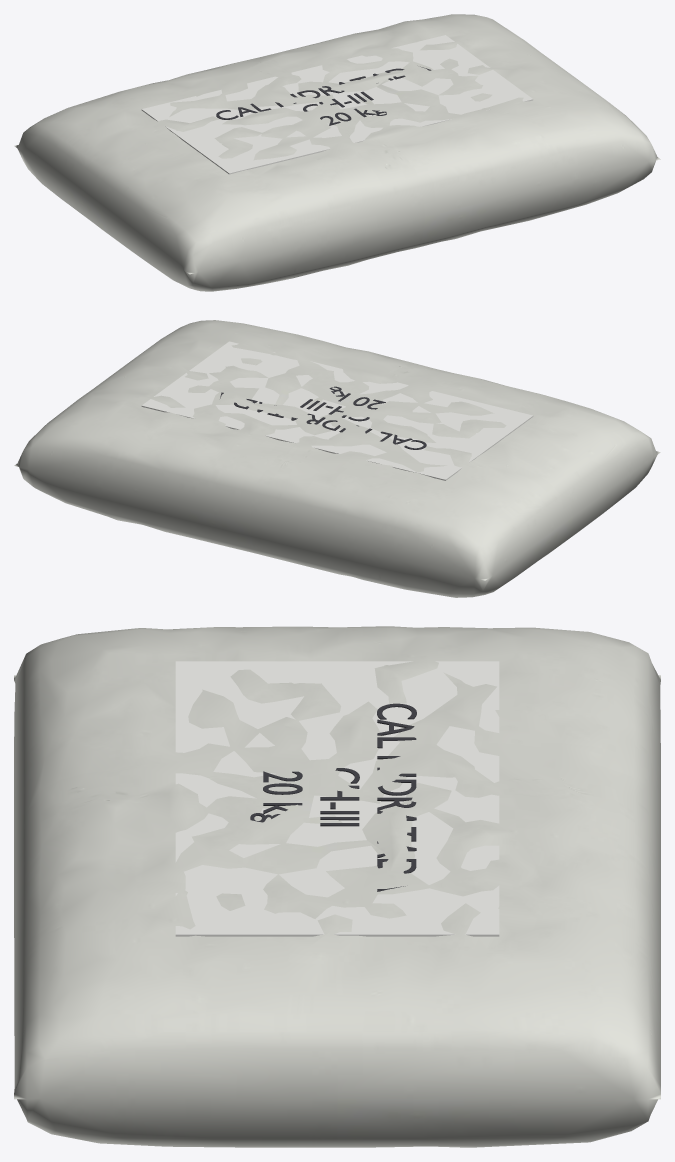
The model's file is ALV-ARG-002.glb.
The picture shows the model from 3 angles, top to bottom: view 1: azimuth 30°, elevation 25°; view 2: azimuth 150°, elevation 25°; view 3: azimuth 270°, elevation 25°; orthographic projection. The views are drawn at different scales.
Visible parts, largest first — view 1: ALV-ARG-002_saco, ALV-ARG-002_faixa, ALV-ARG-002_texto; view 2: ALV-ARG-002_saco, ALV-ARG-002_faixa, ALV-ARG-002_texto; view 3: ALV-ARG-002_saco, ALV-ARG-002_faixa, ALV-ARG-002_texto.
Boxes of the visible parts, x1,y1,x2,y2 form: ALV-ARG-002_saco: [14, 14, 660, 291]; ALV-ARG-002_faixa: [141, 35, 533, 174]; ALV-ARG-002_texto: [216, 66, 431, 125]; ALV-ARG-002_saco: [14, 320, 660, 597]; ALV-ARG-002_faixa: [141, 341, 533, 480]; ALV-ARG-002_texto: [220, 386, 426, 449]; ALV-ARG-002_saco: [14, 626, 660, 1147]; ALV-ARG-002_faixa: [175, 661, 499, 936]; ALV-ARG-002_texto: [250, 703, 416, 891].
Bounding box in the file's own units: 0.5271 × 0.1088 × 0.34.
Materials: 3 (1 with a texture image).
